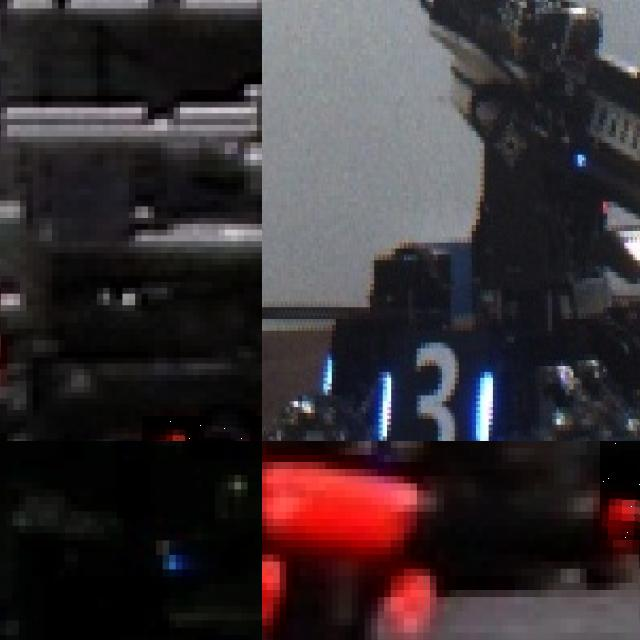B3: (376, 342, 492, 441)
R1: (600, 441, 640, 540)
R2: (141, 415, 262, 441)
